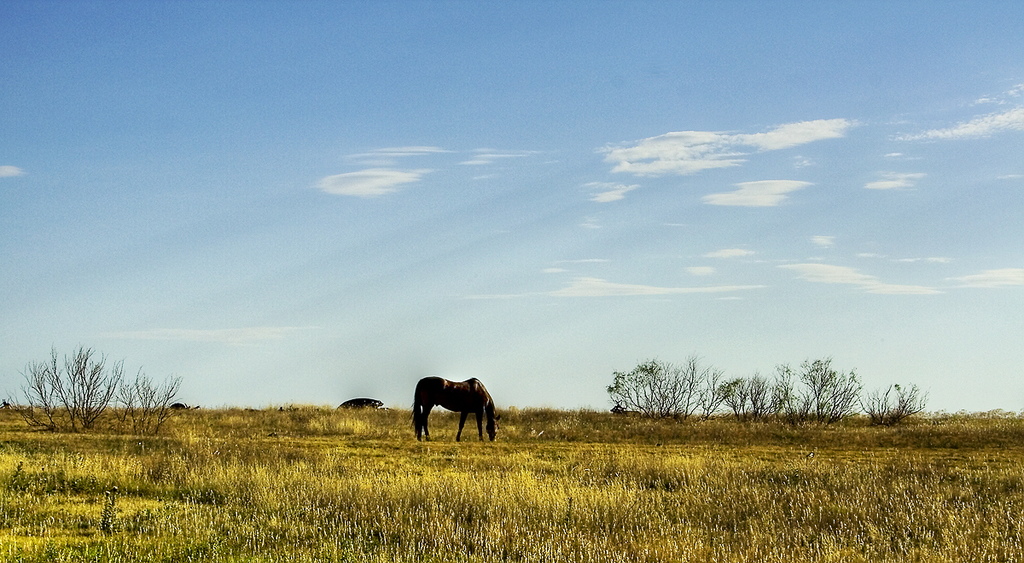horse: (406, 378, 500, 445)
